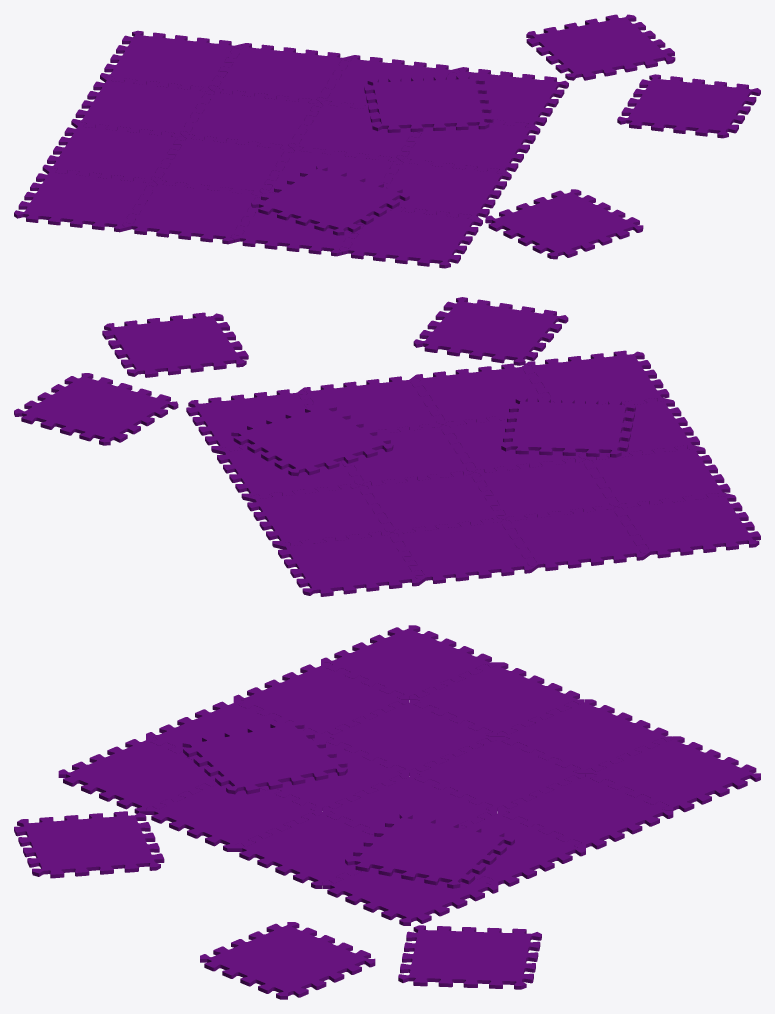
Rendered from Carpet puzzle OBJ.obj.
The picture shows the model from 3 angles, top to bottom: view 1: azimuth 30°, elevation 25°; view 2: azimuth 150°, elevation 25°; view 3: azimuth 270°, elevation 25°; orthographic projection. The views are drawn at different scales.
Visible parts, largest first — view 1: puzzle, puzzle_006, puzzle_2, puzzle_005, puzzle_004, puzzle_003; view 2: puzzle, puzzle_005, puzzle_003, puzzle_006, puzzle_004, puzzle_2; view 3: puzzle, puzzle_003, puzzle_004, puzzle_2, puzzle_006, puzzle_005.
Part boxes in pixels (x1,y1,x2,y2): puzzle: (14,30,568,268); puzzle_006: (485,189,643,259); puzzle_2: (251,165,409,235); puzzle_005: (526,14,675,80); puzzle_004: (617,74,760,138); puzzle_003: (364,75,493,132); puzzle: (186,350,760,596); puzzle_005: (14,373,178,445); puzzle_003: (231,404,393,476); puzzle_006: (413,297,568,365); puzzle_004: (102,312,248,377); puzzle_2: (501,397,635,457); puzzle: (58,625,760,925); puzzle_003: (345,813,514,888); puzzle_004: (200,922,375,999); puzzle_2: (182,721,347,794); puzzle_006: (14,811,164,878); puzzle_005: (398,925,541,989).
Size of the model in its own units: 2149 by 19.8 by 1830.
